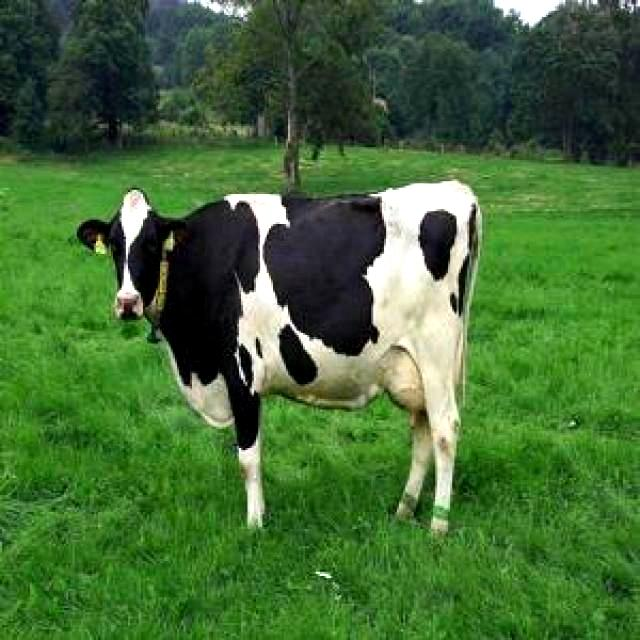COW: (78, 181, 481, 530)
